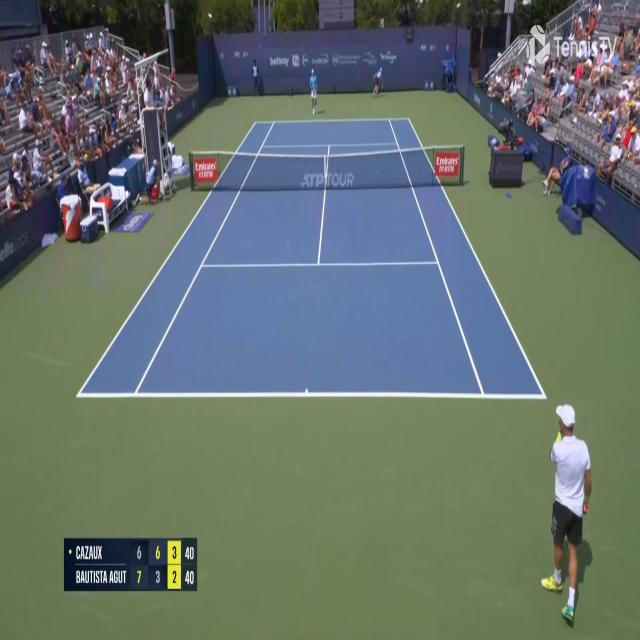tennis-player: (541, 402, 597, 630), (308, 67, 318, 116)
